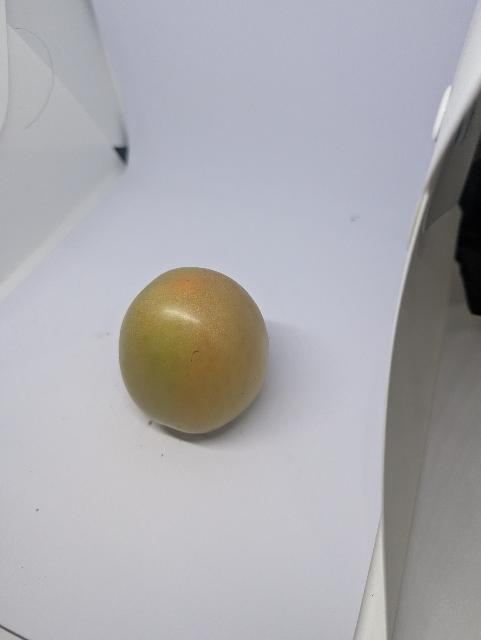breaker: (119, 267, 269, 434)
